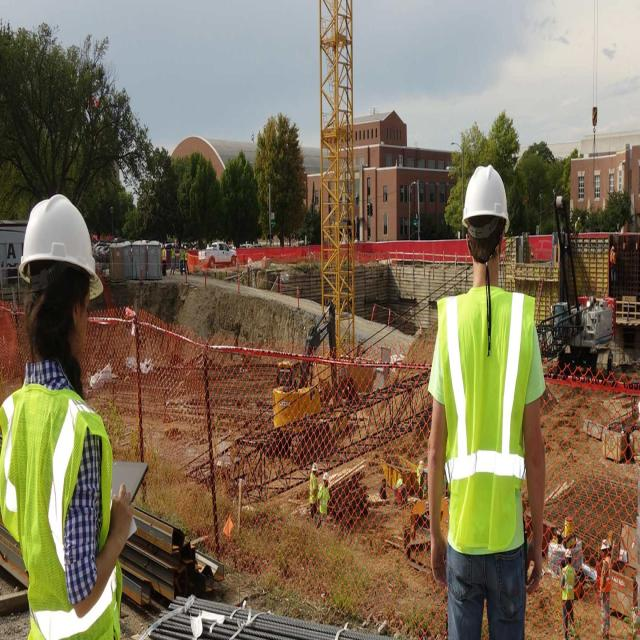helmet: (18, 188, 107, 310), (457, 159, 513, 234)
vest: (0, 384, 126, 640), (438, 291, 531, 547)
